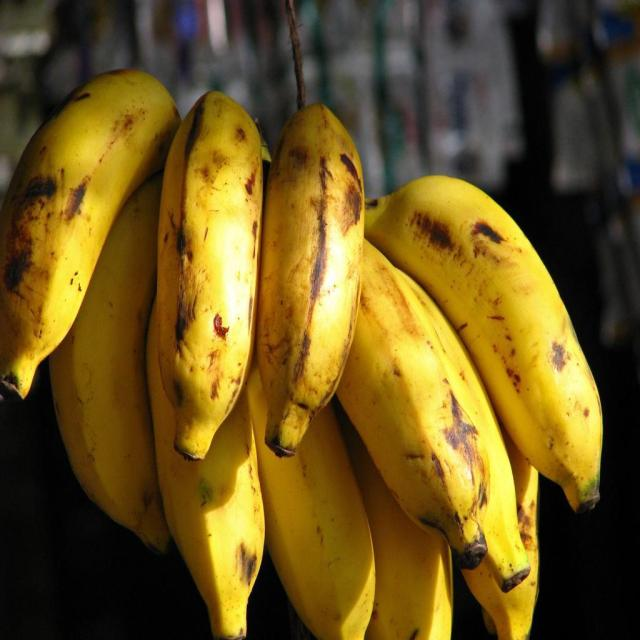banana: (364, 175, 604, 515), (0, 70, 180, 398), (335, 241, 497, 569), (51, 172, 176, 555), (146, 296, 268, 640), (256, 99, 369, 463), (159, 92, 258, 466), (253, 381, 372, 640), (328, 400, 456, 640)
